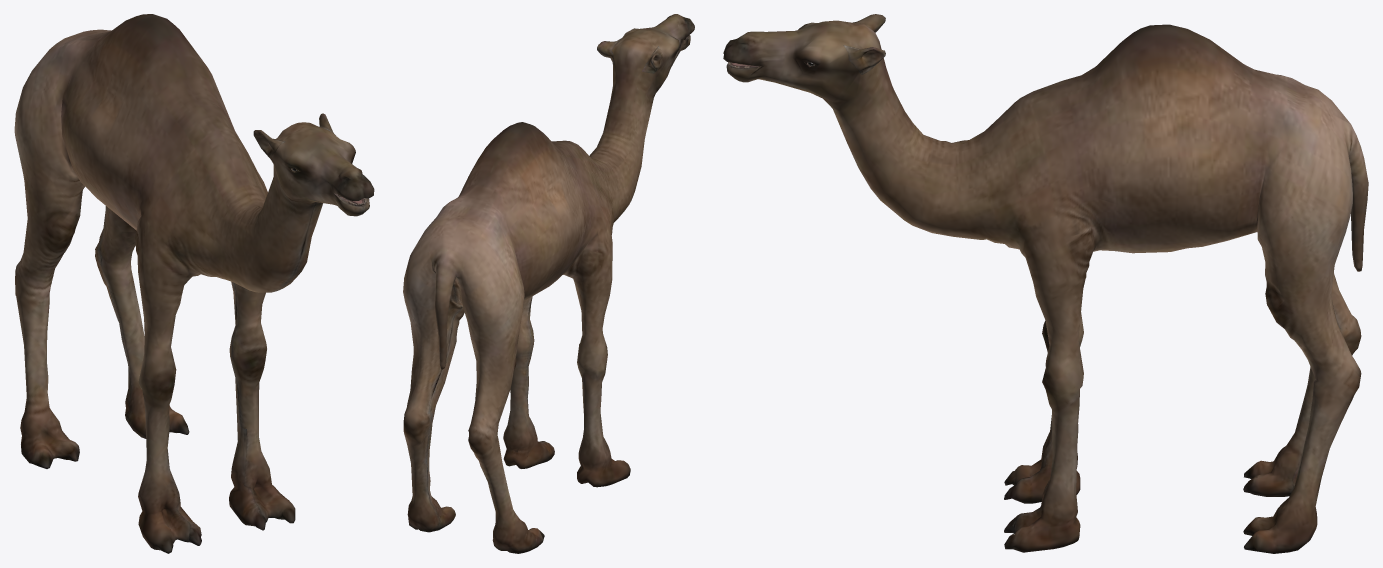
The model's file is camel.glb.
The picture shows the model from 3 angles, left to right: view 1: azimuth 30°, elevation 25°; view 2: azimuth 150°, elevation 25°; view 3: azimuth 270°, elevation 25°; orthographic projection. The views are drawn at different scales.
Parts seen in each view (by area): view 1: Object_5; view 2: Object_5; view 3: Object_5.
Part boxes in pixels (x1,y1,x2,y2): Object_5: (14,14,374,553); Object_5: (403,14,694,553); Object_5: (723,14,1368,553).
Bounding box in the file's own units: 1.79 × 5.21 × 6.15.
5 materials, 5 textured.
